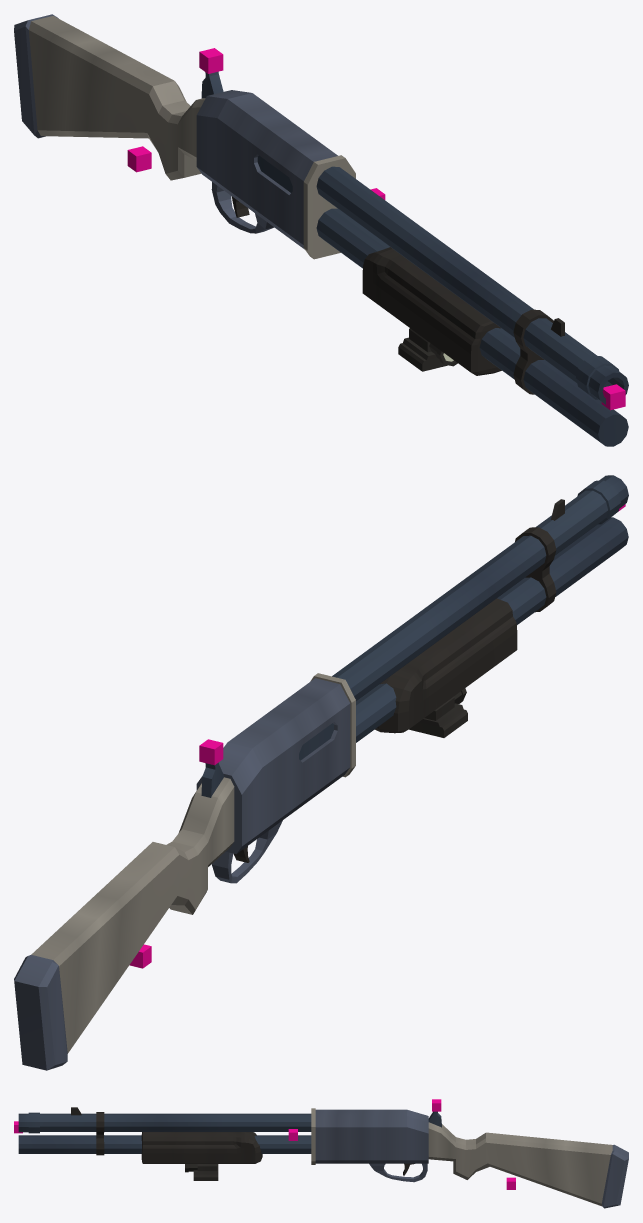
Rendered from breacher12.glb.
The picture shows the model from 3 angles, top to bottom: view 1: azimuth 30°, elevation 25°; view 2: azimuth 150°, elevation 25°; view 3: azimuth 270°, elevation 25°; orthographic projection. The views are drawn at different scales.
Visible parts, largest first — view 1: breacher12; view 2: breacher12; view 3: breacher12.
Boxes of the visible parts, left/top/right/bottom form: breacher12: left=14, top=14, right=628, bottom=446; breacher12: left=14, top=475, right=628, bottom=1070; breacher12: left=18, top=1107, right=628, bottom=1208.
Size of the model in its own units: 0.0548 by 0.1883 by 1.01.
Materials: 2 (1 with a texture image).
